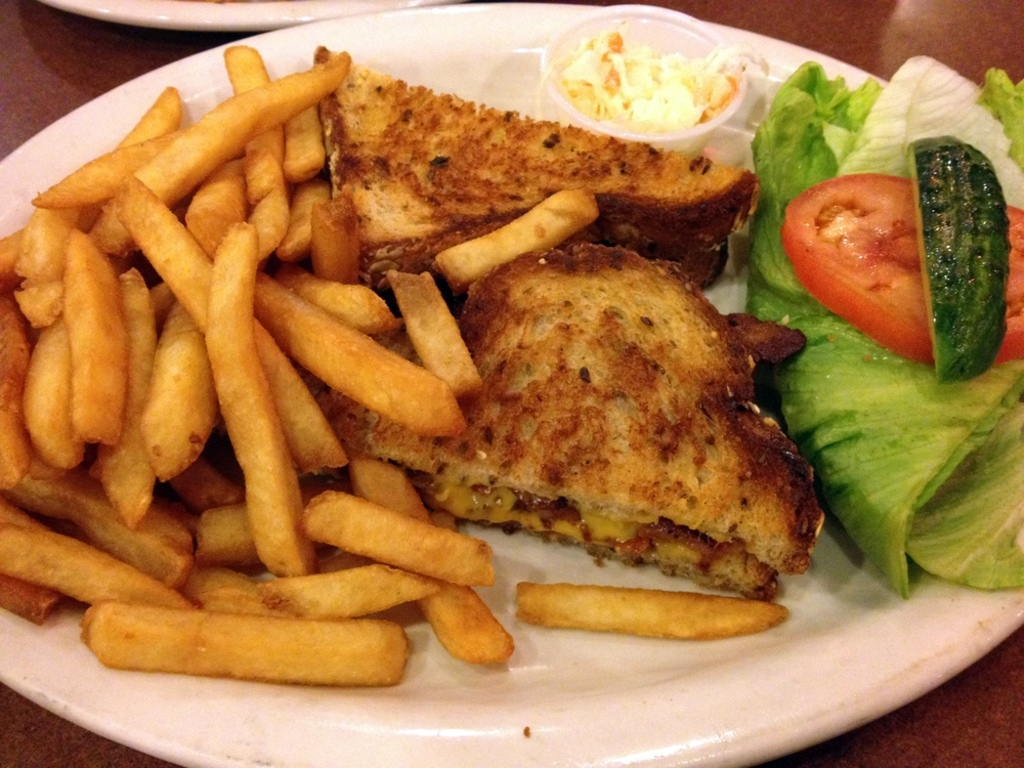French fries: (0, 36, 787, 690)
